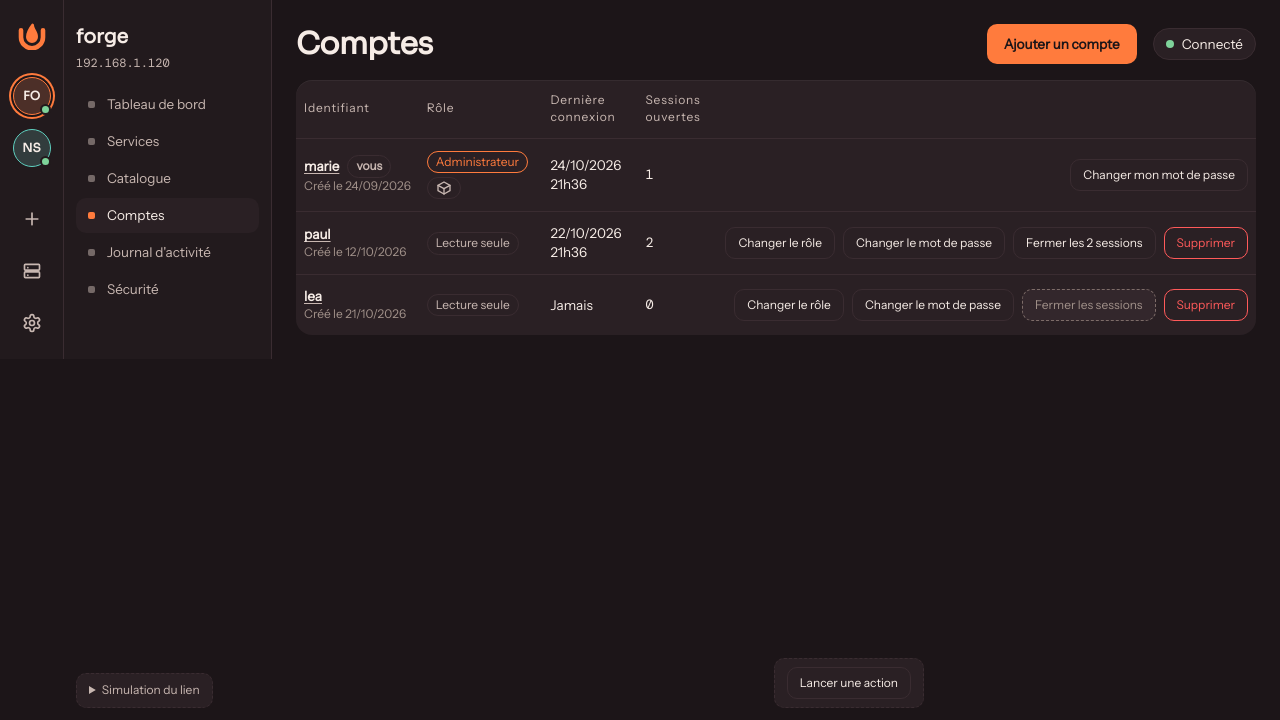
Scenario: le détail d'un compte › un compte qui a le droit : « Autorisée » et la commande --revoke
The image size is (1280, 720).
Click the button "marie".
click(322, 167)  # box [304, 157, 339, 176]
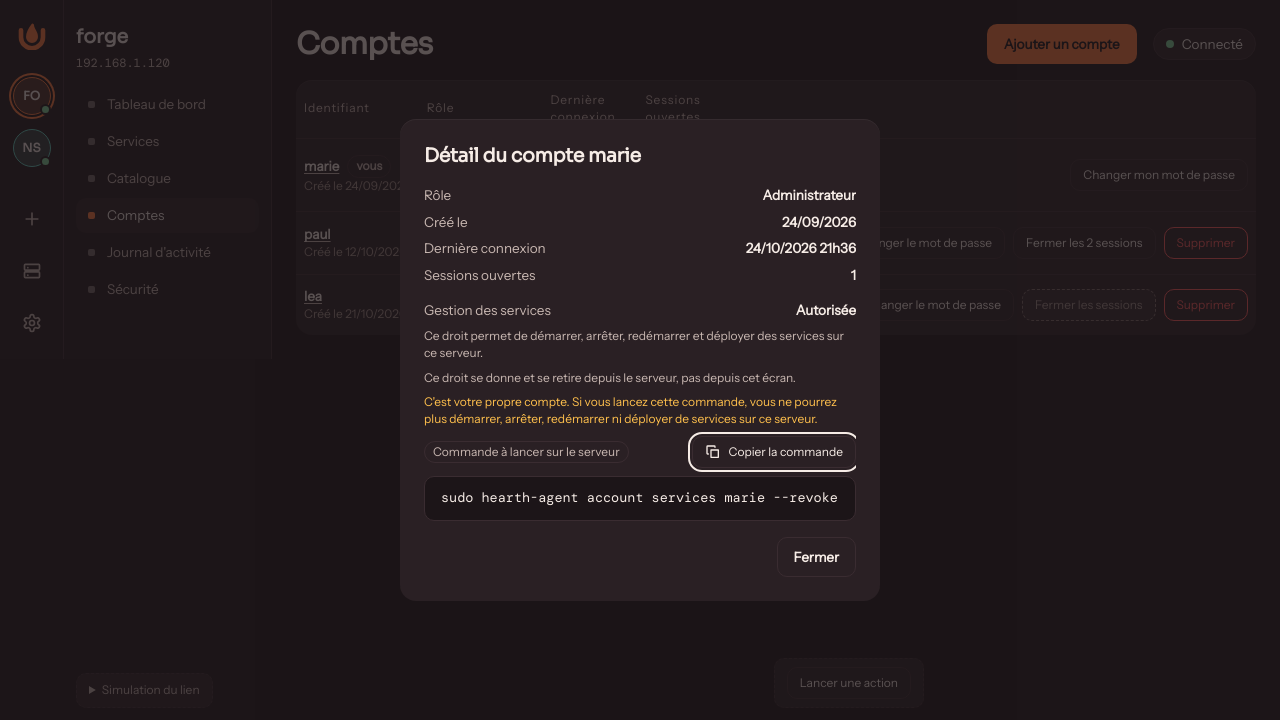
expect the text "Autorisée" is shown: met, box [796, 301, 856, 320]
expect the text "sudo hearth-agent account services marie --revoke" is shown: met, box [424, 476, 856, 521]
